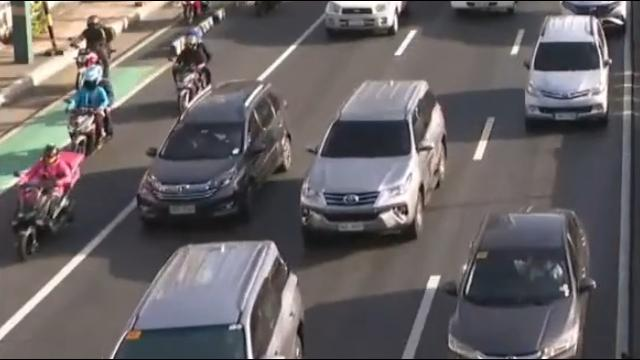car: (93, 243, 315, 360), (302, 76, 448, 242), (135, 82, 293, 231), (462, 215, 592, 360), (525, 14, 612, 132)
motorcycle: (11, 144, 83, 262), (63, 63, 112, 156), (170, 26, 213, 118), (69, 14, 116, 90)
